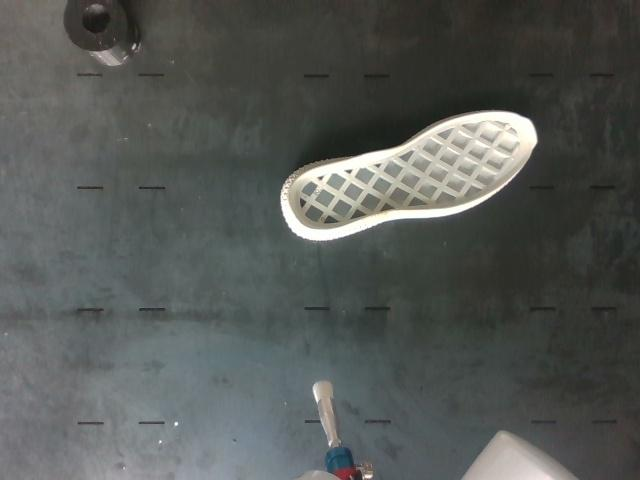shoes: (287, 112, 536, 231)
